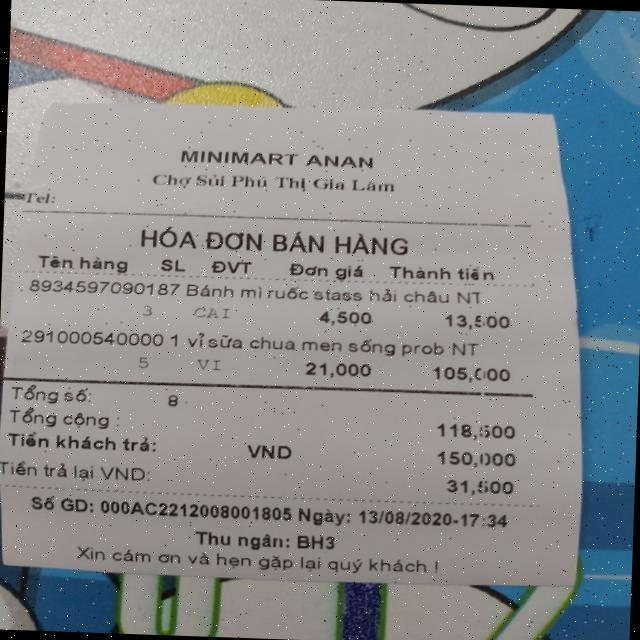Date: (354, 504, 452, 531)
Store_Name: (176, 144, 378, 171)
amount_number: (436, 418, 520, 442)
label_total: (2, 406, 116, 432)
